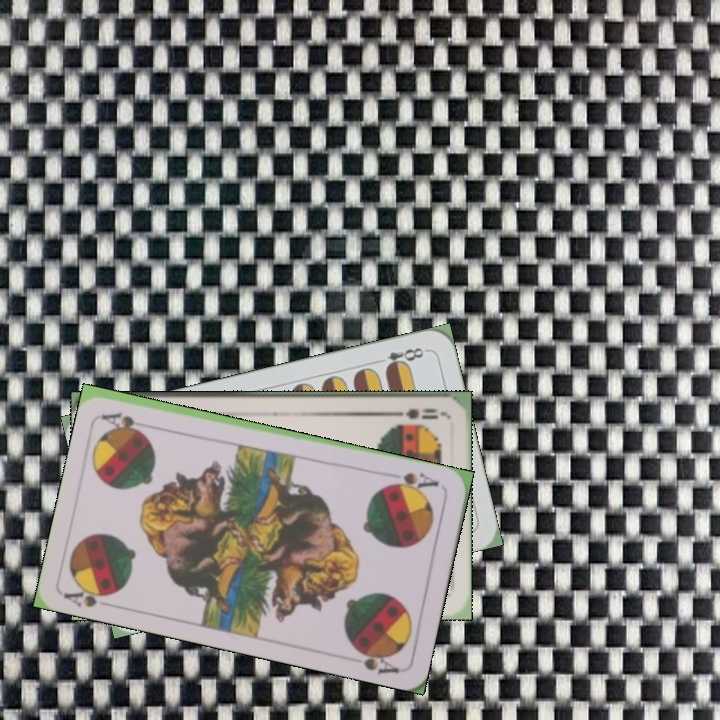E8: (371, 343, 430, 373)
SA: (60, 579, 120, 610), (384, 468, 442, 495)
SO: (386, 404, 445, 422)
